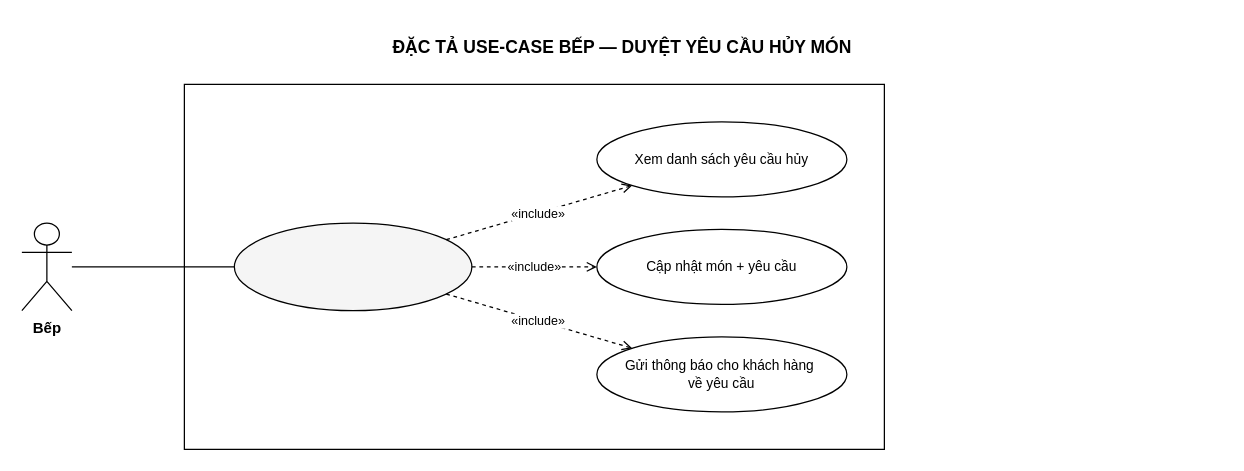
The diagram is 1244 pixels wide and 471 high, and some of its shapes have lost their labels. Each missing label, with the box of its shape:
Hệ thống QR Ordering: (183, 83, 884, 449)
Xác nhận / từ chối yêu cầu hủy món: (233, 222, 472, 311)
